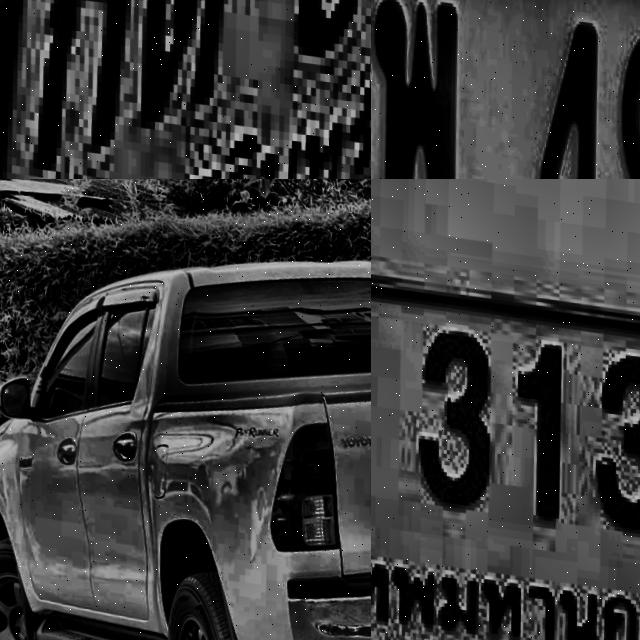license-plate: (371, 220, 640, 640), (0, 0, 371, 179), (371, 0, 640, 179)
